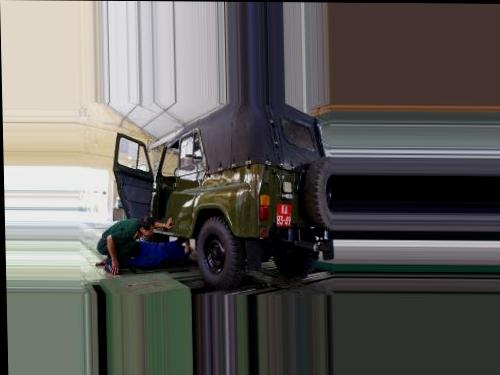License_Plate: (275, 202, 293, 228)
